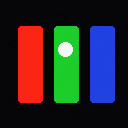2 circle: (58, 42, 72, 56)
